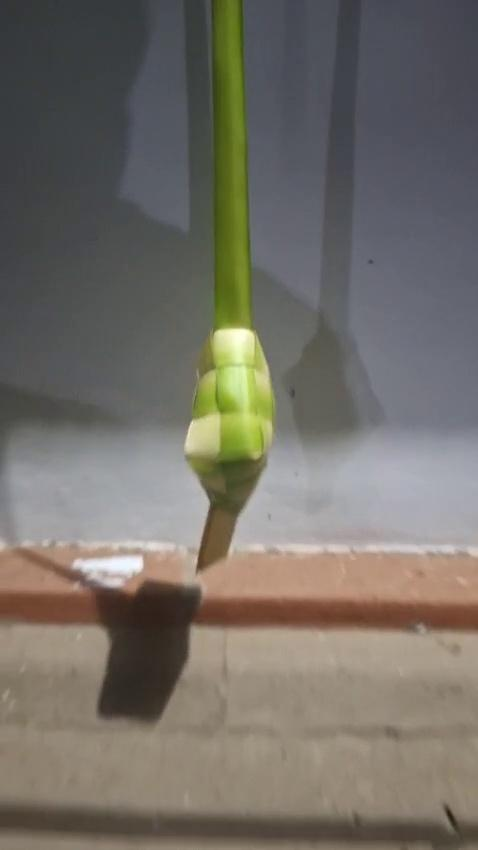Tipat Nasi: (177, 323, 283, 567)
